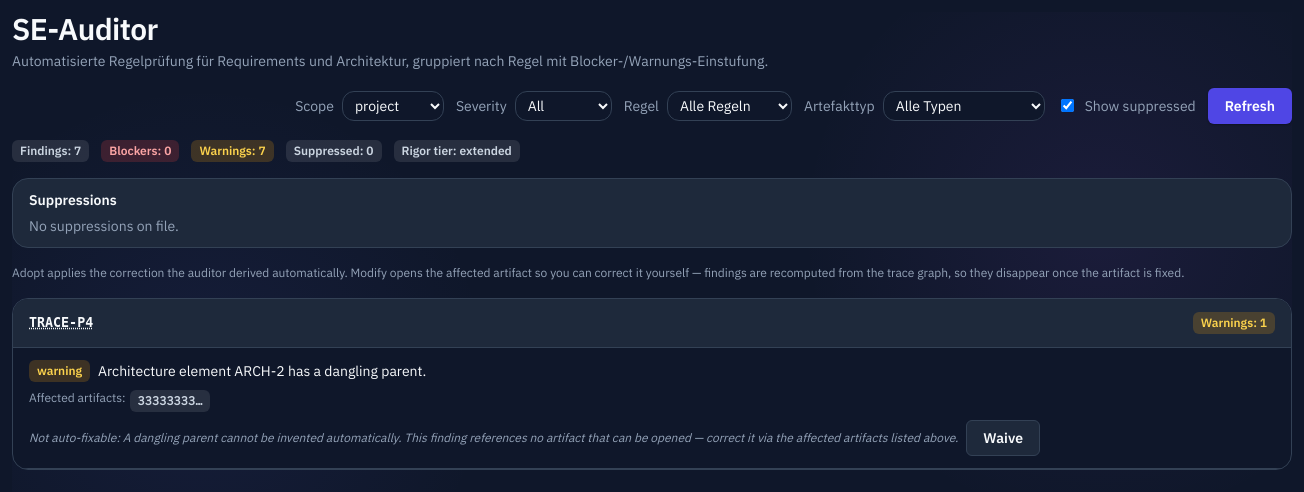
Test case: AuditDashboard (SysEng 2.0 Phase 3) › renders a neutral message when a filter hides every mounted finding (#1382)
Expected: the list item with test id "audit-finding-1" is shown, top-left (13, 348), bottom-right (1291, 469)
Select "Blockers" in the dropdown with test id "audit-severity-filter" at (563, 106), box top-left (515, 91), bottom-right (612, 121)
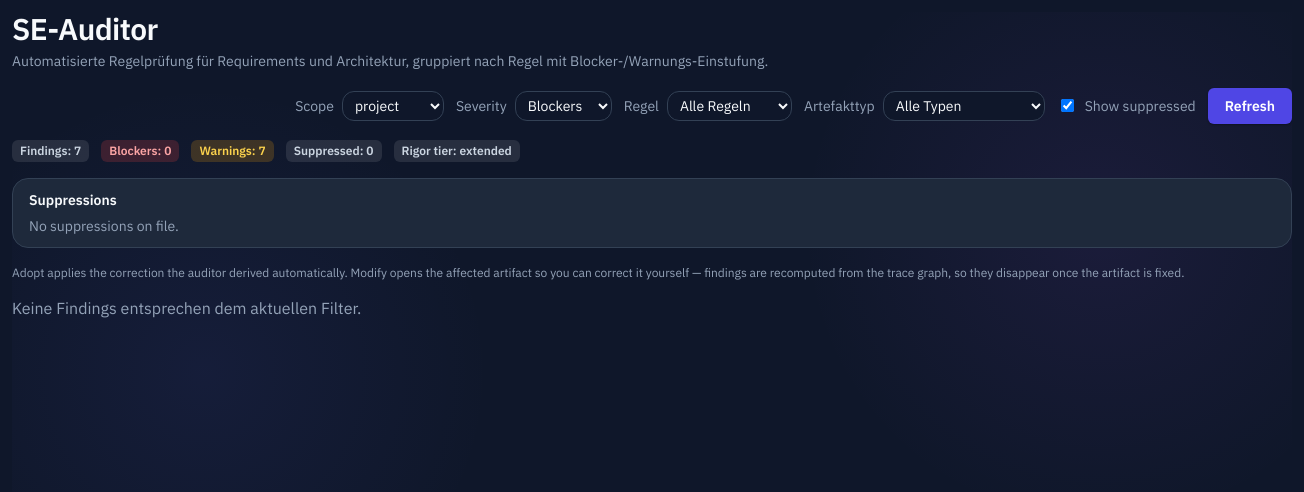
Expected: the text with test id "audit-count-total" shows "7", top-left (74, 143), bottom-right (81, 158)
Expected: the text with test id "audit-no-filter-match" reads "Keine Findings entsprechen dem aktuellen Filter.", top-left (12, 298), bottom-right (361, 318)
